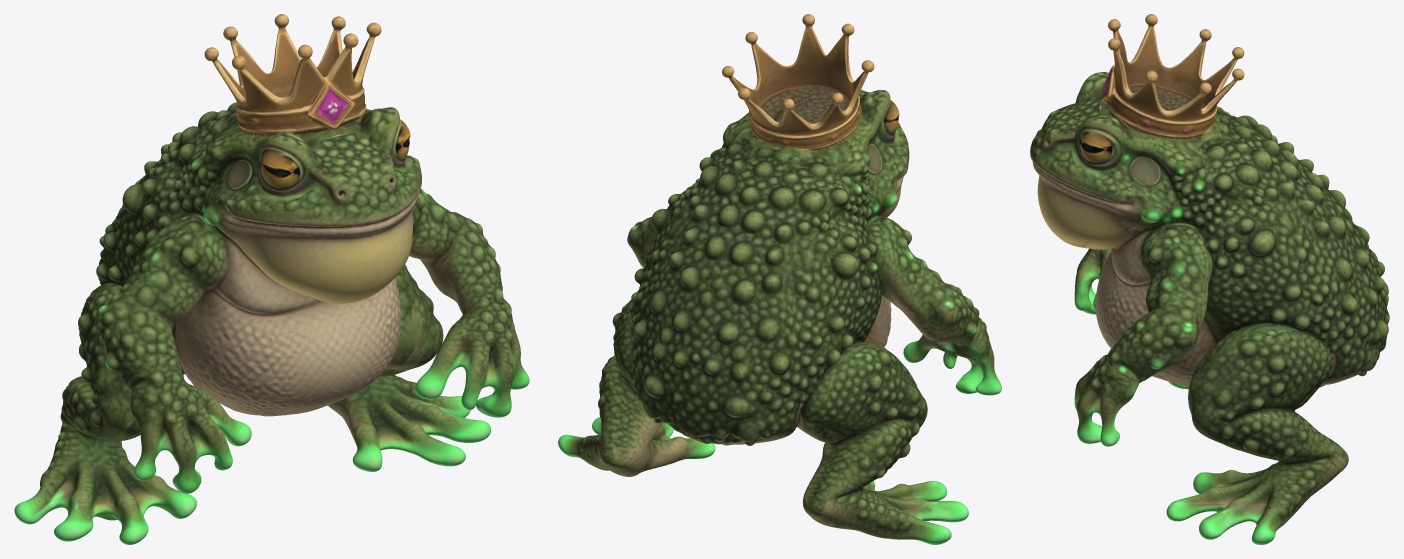
The model's file is Frog-Meshy.glb.
3 views of the same model, side by side, from view 1: azimuth 30°, elevation 25°; view 2: azimuth 150°, elevation 25°; view 3: azimuth 270°, elevation 25° (orthographic). The views are drawn at different scales.
Bounding box in the file's own units: 1.82 × 1.9 × 1.45.
1 material, 1 textured.
